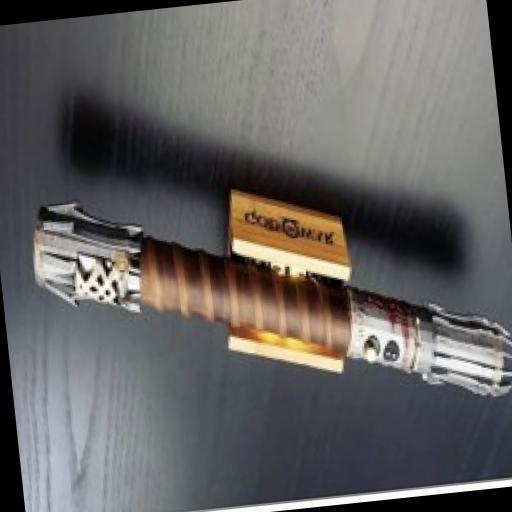lightsaber: (19, 149, 512, 447)
